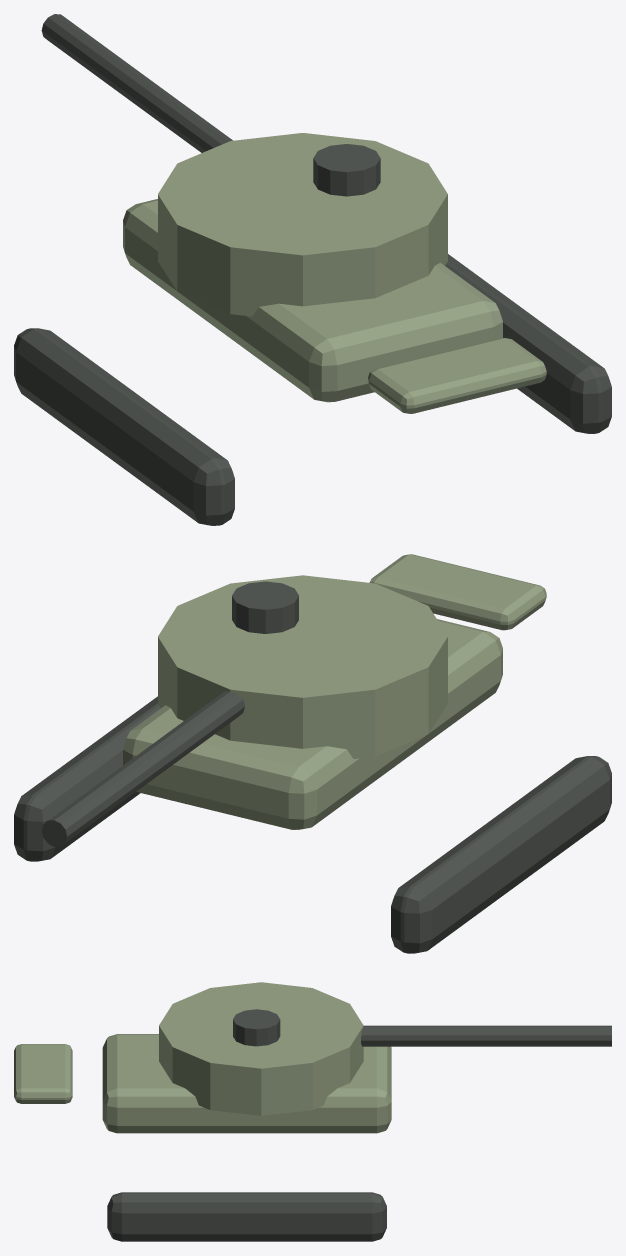
The model's file is export_bmp3.glb.
3 views of the same model, one above another, from view 1: azimuth 30°, elevation 25°; view 2: azimuth 150°, elevation 25°; view 3: azimuth 270°, elevation 25° (orthographic). The views are drawn at different scales.
Visible parts, largest first — view 1: turret, hull, left_track, rear_deck, right_track, gun, cupola; view 2: turret, hull, left_track, rear_deck, gun, right_track, cupola; view 3: turret, hull, right_track, gun, rear_deck, cupola.
Boxes of the visible parts, x1,y1,x2,y2 form: turret: (158,133,447,316); hull: (123,199,502,402); left_track: (14,328,234,525); rear_deck: (368,338,546,413); right_track: (445,254,611,433); gun: (41,14,232,152); cupola: (313,144,380,196); turret: (158,575,447,758); hull: (123,619,502,829); left_track: (391,756,611,953); rear_deck: (369,554,546,630); gun: (41,691,244,846); right_track: (14,696,160,861); cupola: (232,581,298,633); turret: (159,982,363,1115); hull: (102,1034,391,1133); right_track: (107,1192,386,1241); gun: (361,1025,611,1046); rear_deck: (14,1044,72,1103); cupola: (233,1009,280,1046).
Bounding box in the file's own units: 2.79 × 1.55 × 4.92.
